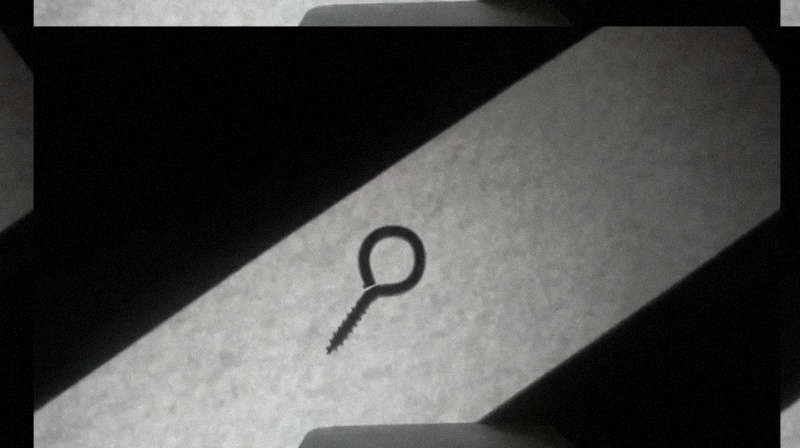O001: (323, 223, 429, 358)
